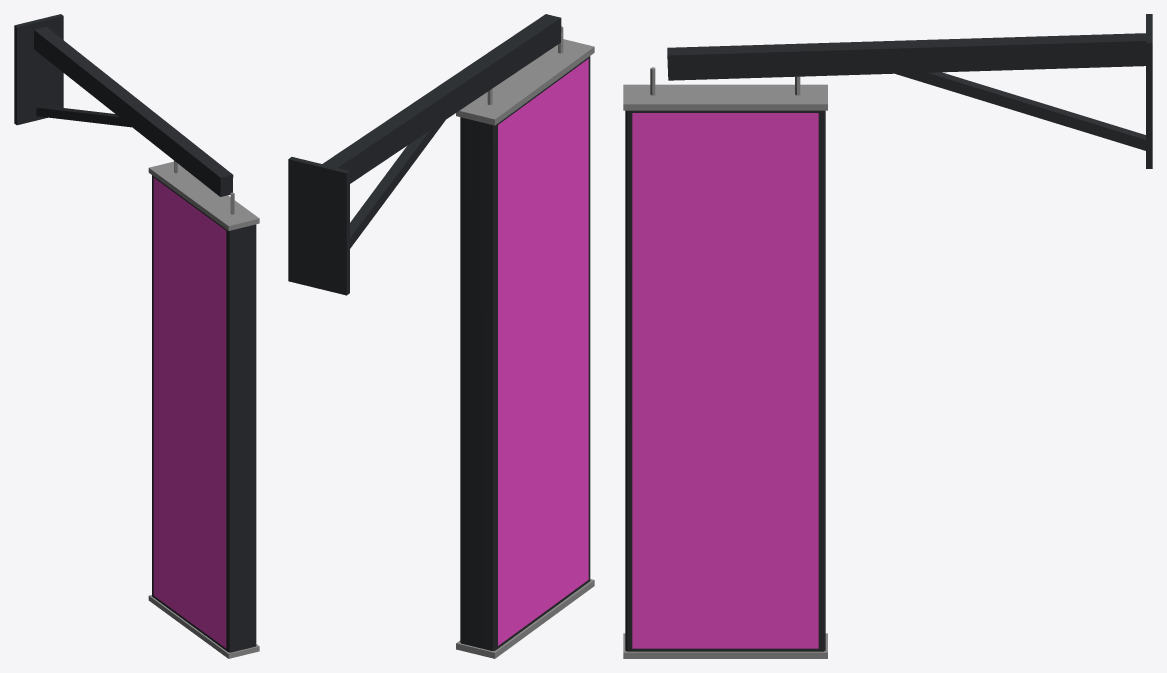
File: St_HangingSign_A.fbx
3 views of the same model, side by side, from view 1: azimuth 30°, elevation 25°; view 2: azimuth 150°, elevation 25°; view 3: azimuth 270°, elevation 25° (orthographic). The views are drawn at different scales.
Parts seen in each view (by area): view 1: St_HangingSign_A_LOD0; view 2: St_HangingSign_A_LOD0; view 3: St_HangingSign_A_LOD0.
Part boxes in pixels (x1,y1,x2,y2): St_HangingSign_A_LOD0: (14,14,259,658); St_HangingSign_A_LOD0: (288,14,594,658); St_HangingSign_A_LOD0: (623,14,1152,658).
Size of what is drawn, in the model's own units: 0.3 by 2.97 by 2.29.
